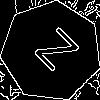Z: (26, 26, 80, 81)
